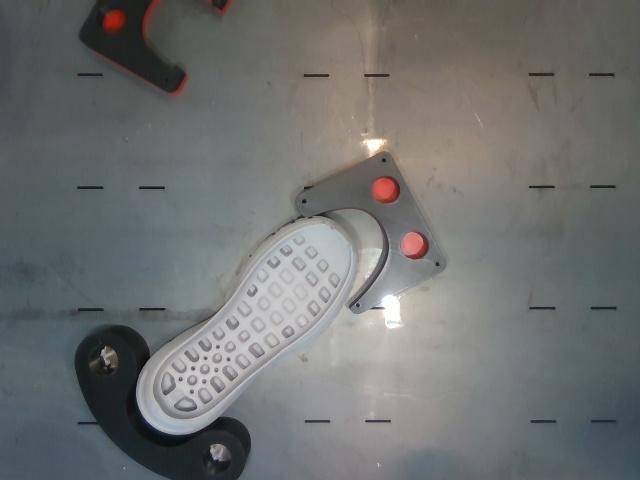shoes: (151, 225, 352, 420)
